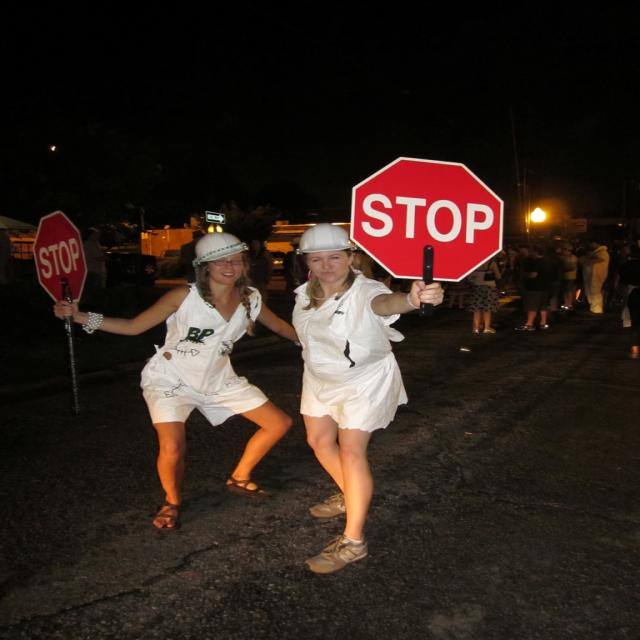Stop-sign: (352, 153, 509, 284), (34, 210, 96, 304)
